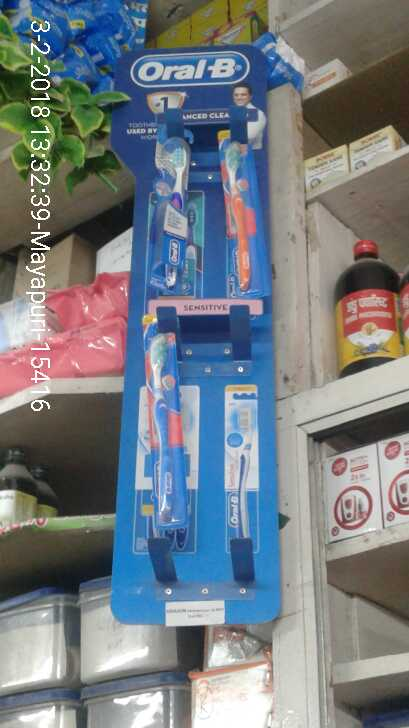oralb: (134, 334, 188, 538), (214, 139, 265, 292), (160, 132, 193, 293)
